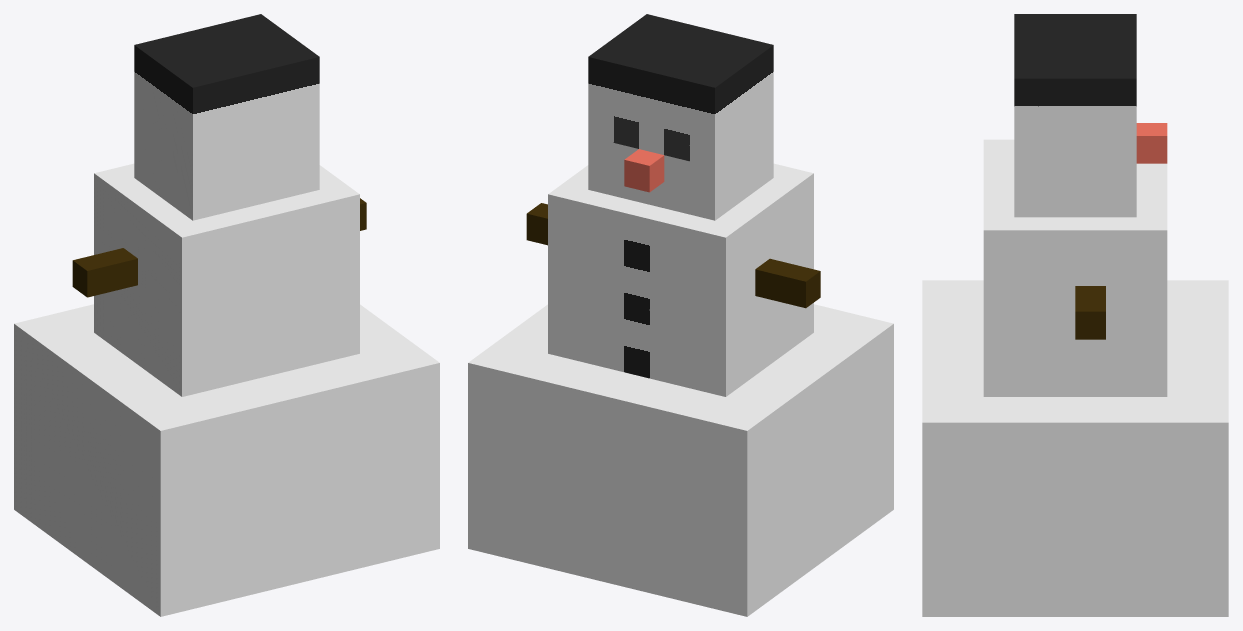
File: SnowMan2.dae
3 views of the same model, side by side, from view 1: azimuth 30°, elevation 25°; view 2: azimuth 150°, elevation 25°; view 3: azimuth 270°, elevation 25° (orthographic). The views are drawn at different scales.
Parts seen in each view (by area): view 1: pizza_men_34; view 2: pizza_men_34; view 3: pizza_men_34.
Boxes of the visible parts, box(x1,y1,x2,y2) form: pizza_men_34: box(14, 14, 439, 616); pizza_men_34: box(468, 14, 893, 616); pizza_men_34: box(922, 14, 1228, 616).
Bounding box in the file's own units: 11 × 18 × 10.
1 material, 1 textured.
